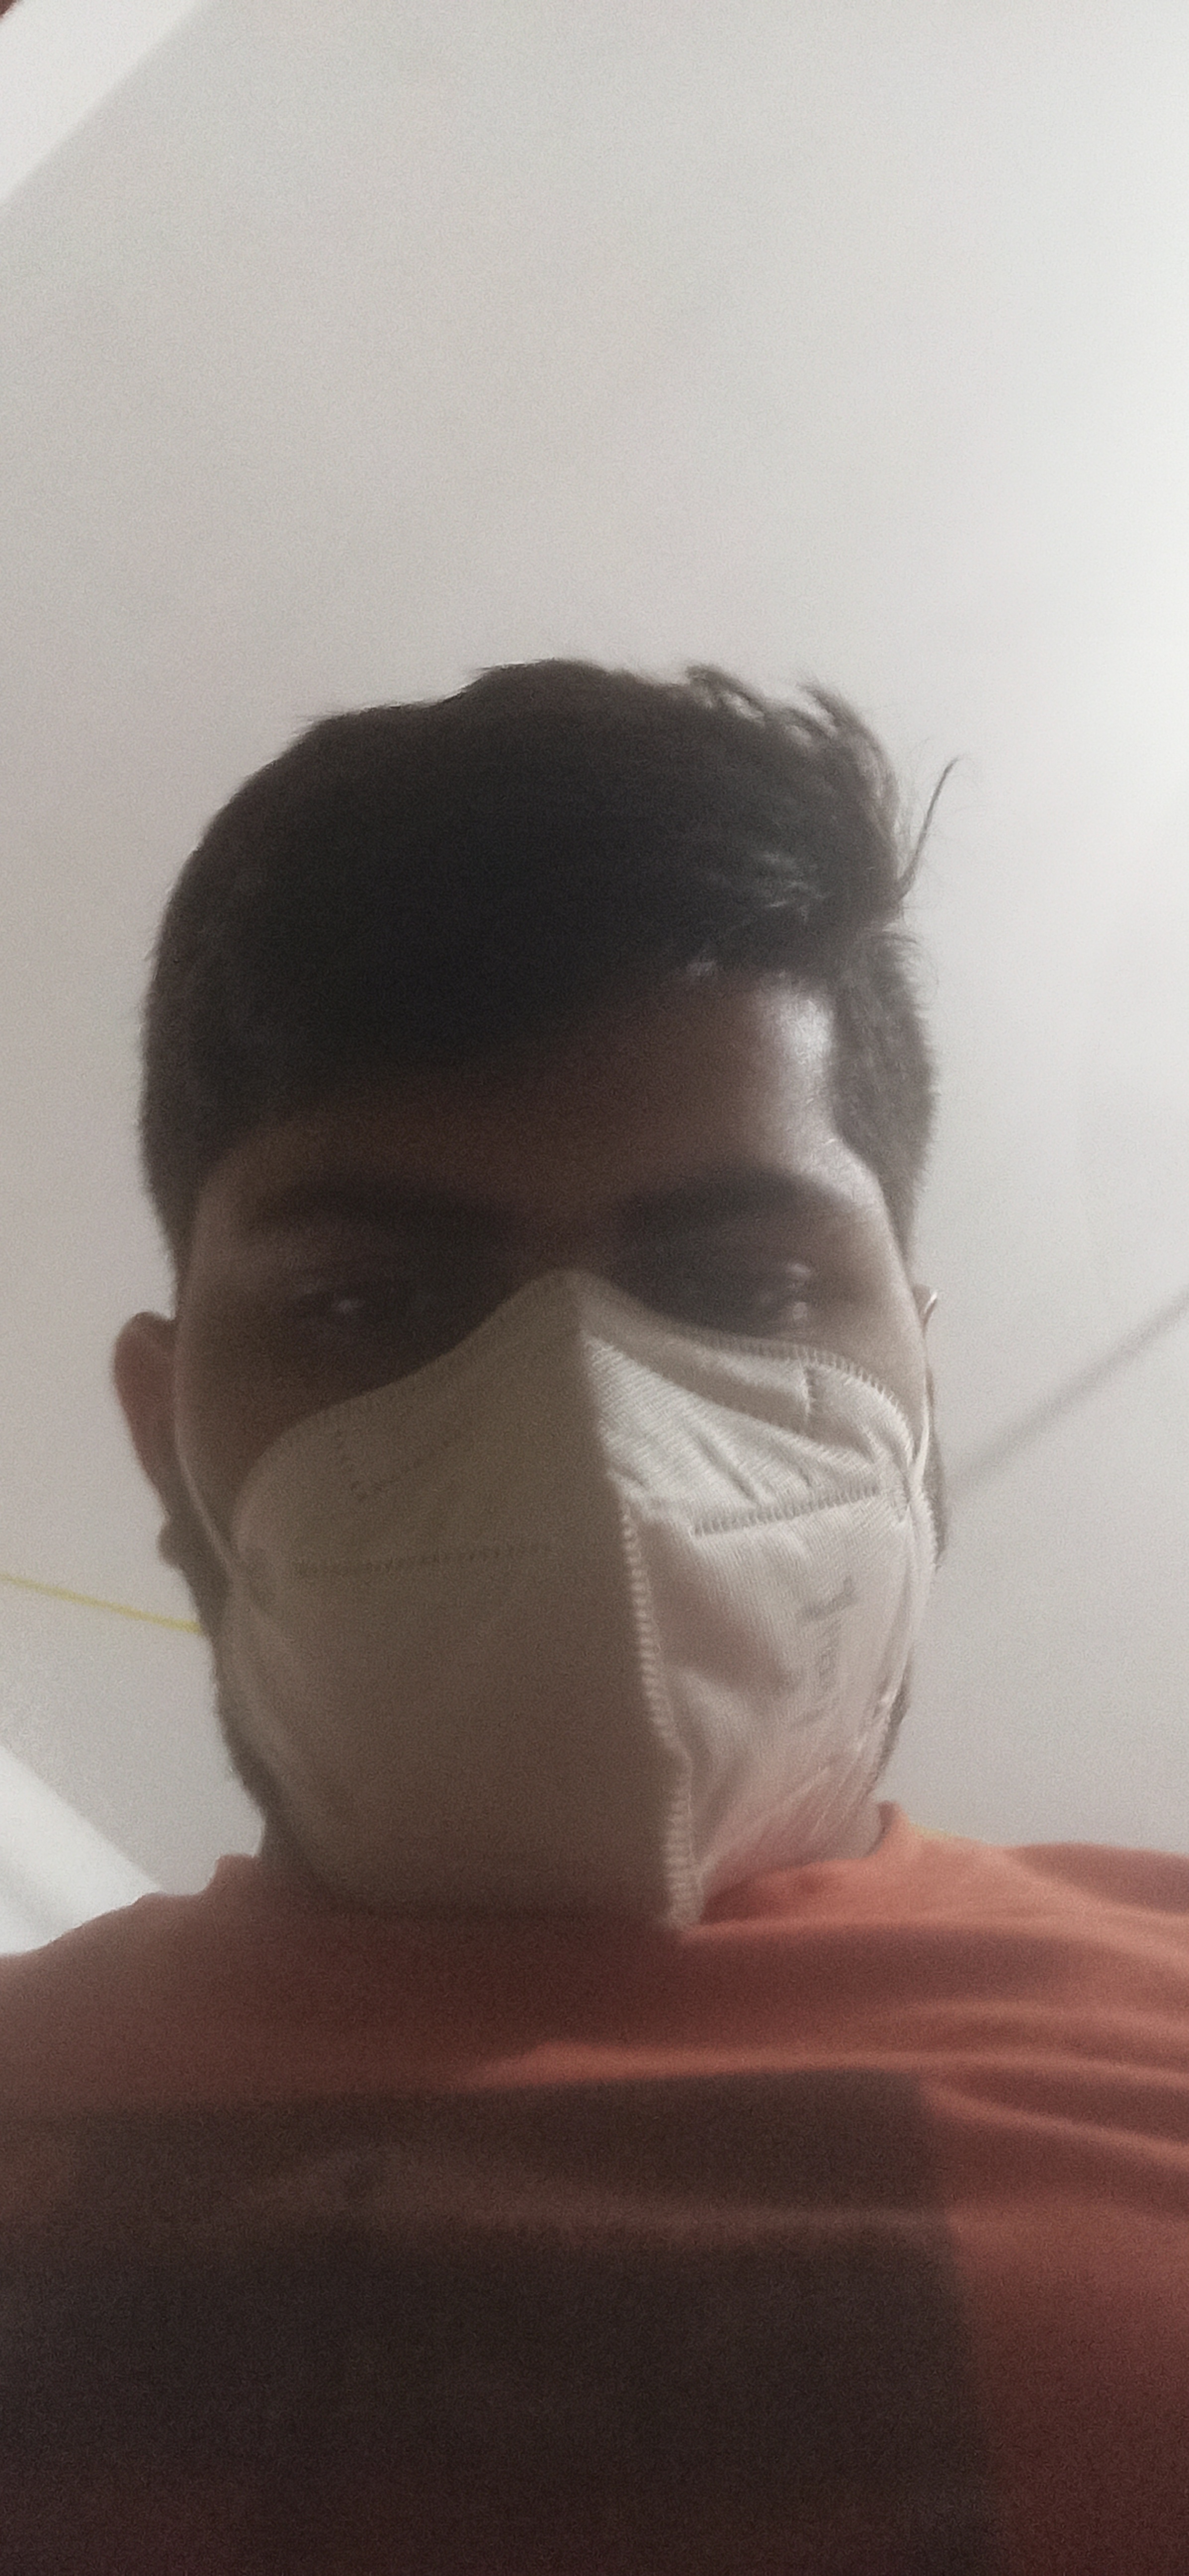Mask: (156, 1260, 997, 1934)
